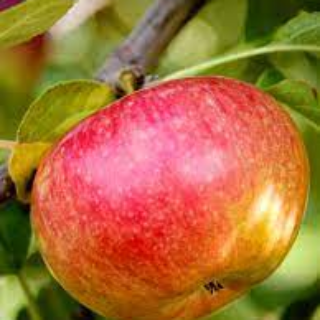tao: (28, 72, 313, 317)
